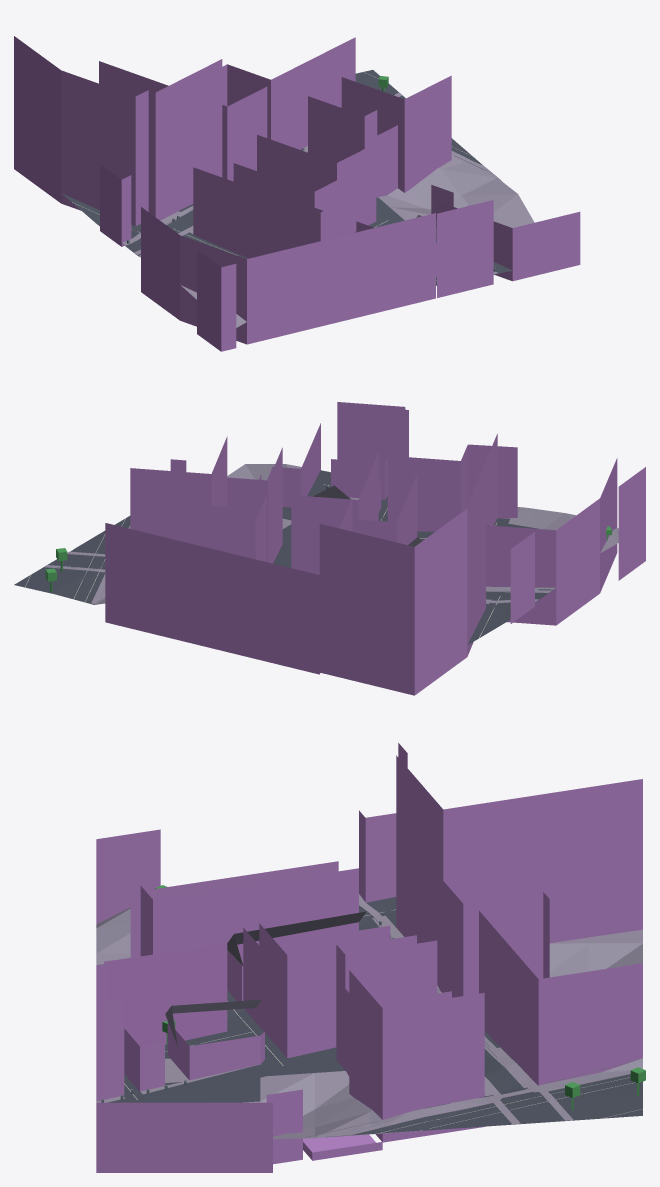
3 renders of one model, top to bottom at view 1: azimuth 30°, elevation 25°; view 2: azimuth 150°, elevation 25°; view 3: azimuth 270°, elevation 25°, orthographic. The views are drawn at different scales.
Parts seen in each view (by area): view 1: compiled-chunk; view 2: compiled-chunk; view 3: compiled-chunk.
Part boxes in pixels (box(x1,y1,x2,y2)): compiled-chunk: box(14, 36, 580, 351); compiled-chunk: box(14, 402, 645, 695); compiled-chunk: box(96, 743, 645, 1172).
Bounding box in the file's own units: 138 × 52.7 × 139.
